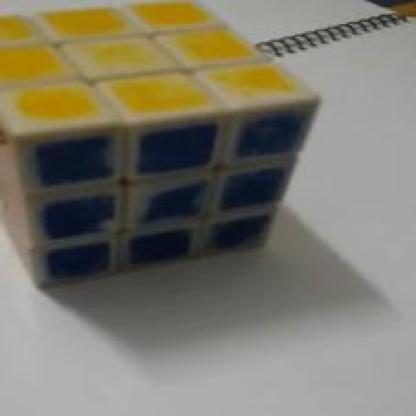cube: (7, 11, 314, 284)
